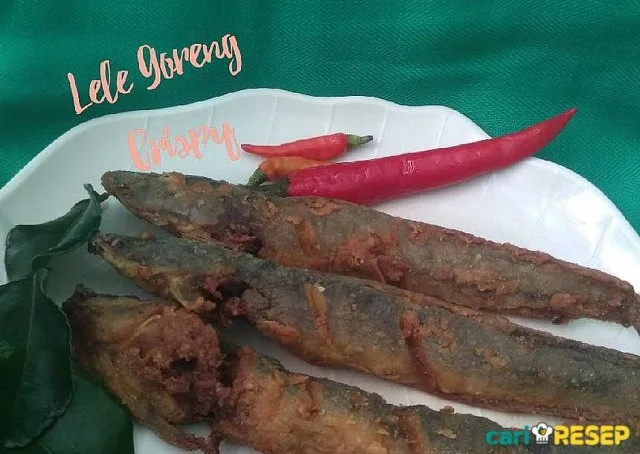pecel_lele: (91, 232, 639, 410)
